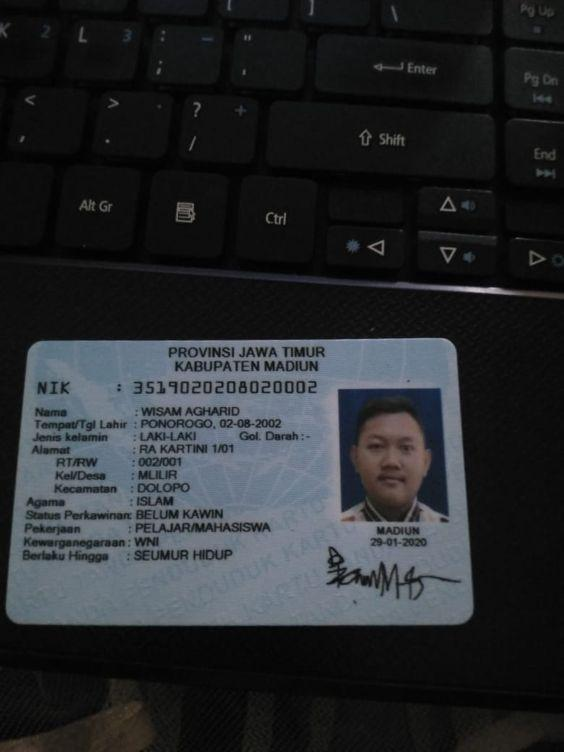ID-card: (2, 343, 481, 618)
